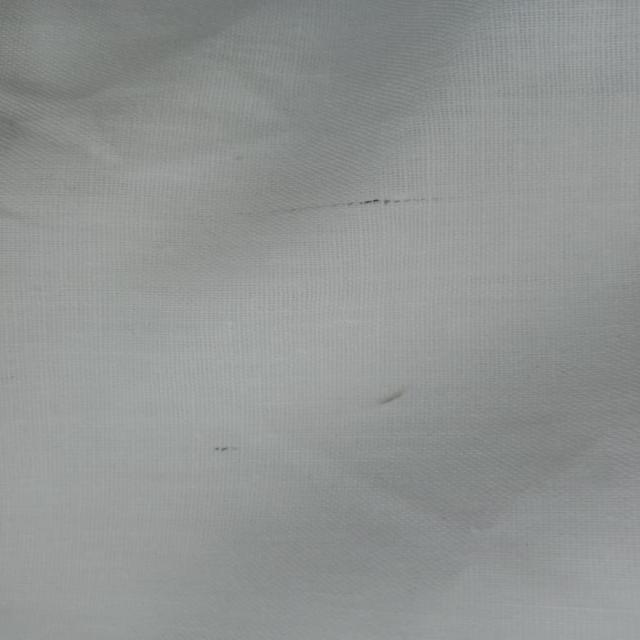contamination: (266, 190, 454, 217), (370, 378, 419, 411), (206, 442, 243, 455)
